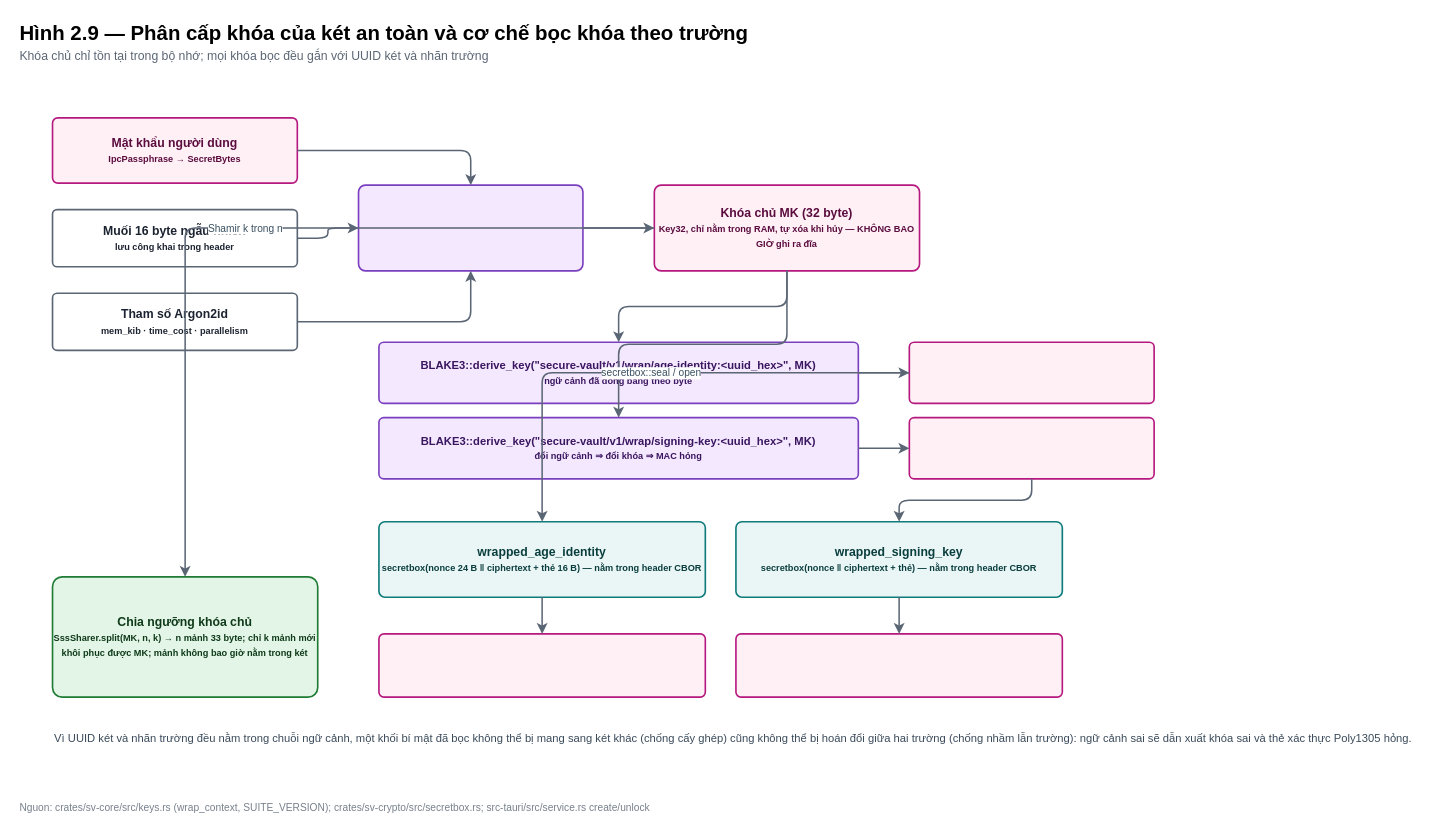
This 1429x831 diagram has some shape labels left out. The shapes that lost their labels are listed below. From the top down, each one's box as (x1, y1, x2, y2) in pixels, then its label:
(357, 184, 583, 271): Argon2id hàm dẫn xuất khóa từ mật khẩu
(908, 341, 1154, 404): Khóa bọc A cho danh tính age
(908, 416, 1154, 479): Khóa bọc S cho khóa ký Ed25519
(378, 633, 706, 697): Danh tính age (tạm thời) giải mã tải trọng rồi bị hủy ngay trong một thao tác
(735, 633, 1063, 697): Khóa ký Ed25519 (tạm thời) ký gốc ràng buộc rồi bị hủy ngay
